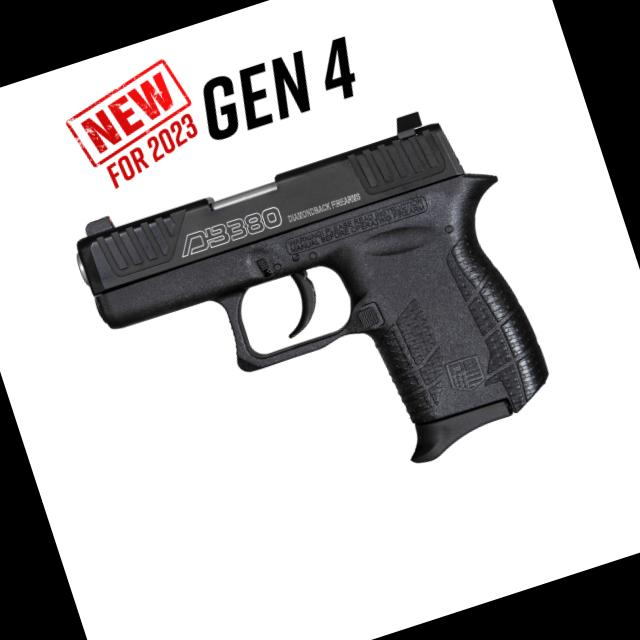Weapon: (48, 78, 596, 554)
